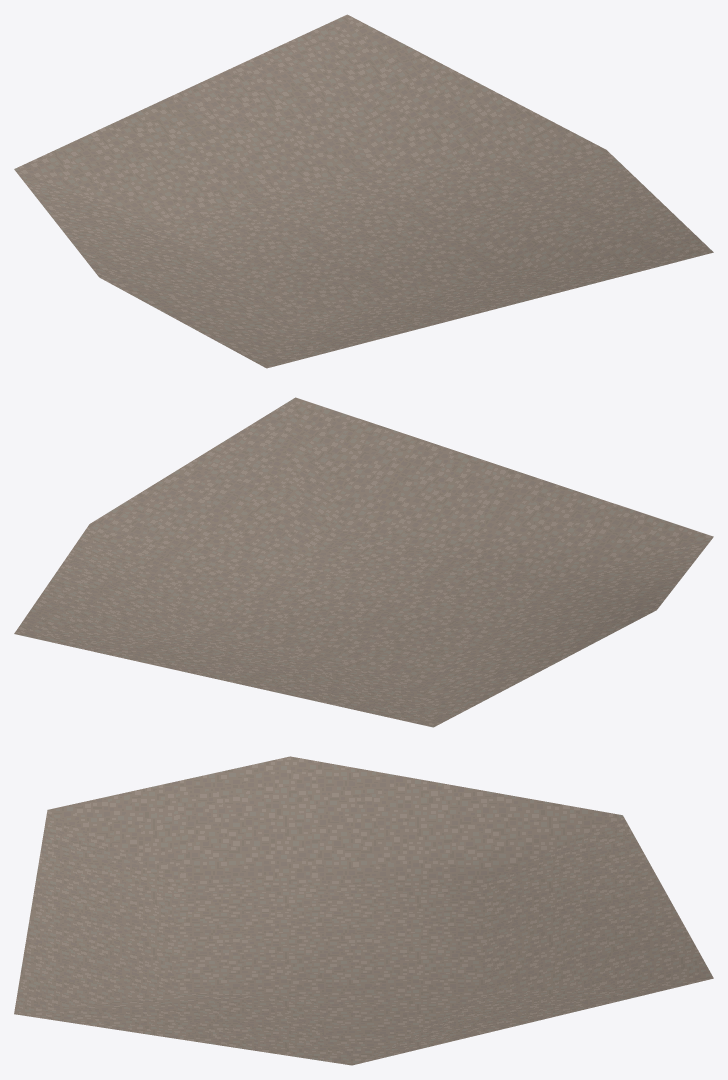
File: kd_stage_135d18_4_134_bounded.glb
3 views of the same model, one above another, from view 1: azimuth 30°, elevation 25°; view 2: azimuth 150°, elevation 25°; view 3: azimuth 270°, elevation 25° (orthographic). The views are drawn at different scales.
Visible parts, largest first — view 1: kd_stage_135d18_4_134_bounded; view 2: kd_stage_135d18_4_134_bounded; view 3: kd_stage_135d18_4_134_bounded.
Part boxes in pixels (x1,y1,x2,y2): kd_stage_135d18_4_134_bounded: (14, 14, 713, 368); kd_stage_135d18_4_134_bounded: (14, 397, 713, 727); kd_stage_135d18_4_134_bounded: (14, 756, 713, 1065).
Size of the model in its own units: 0.8658 by 0.0838 by 0.9048.
1 material, 1 textured.
